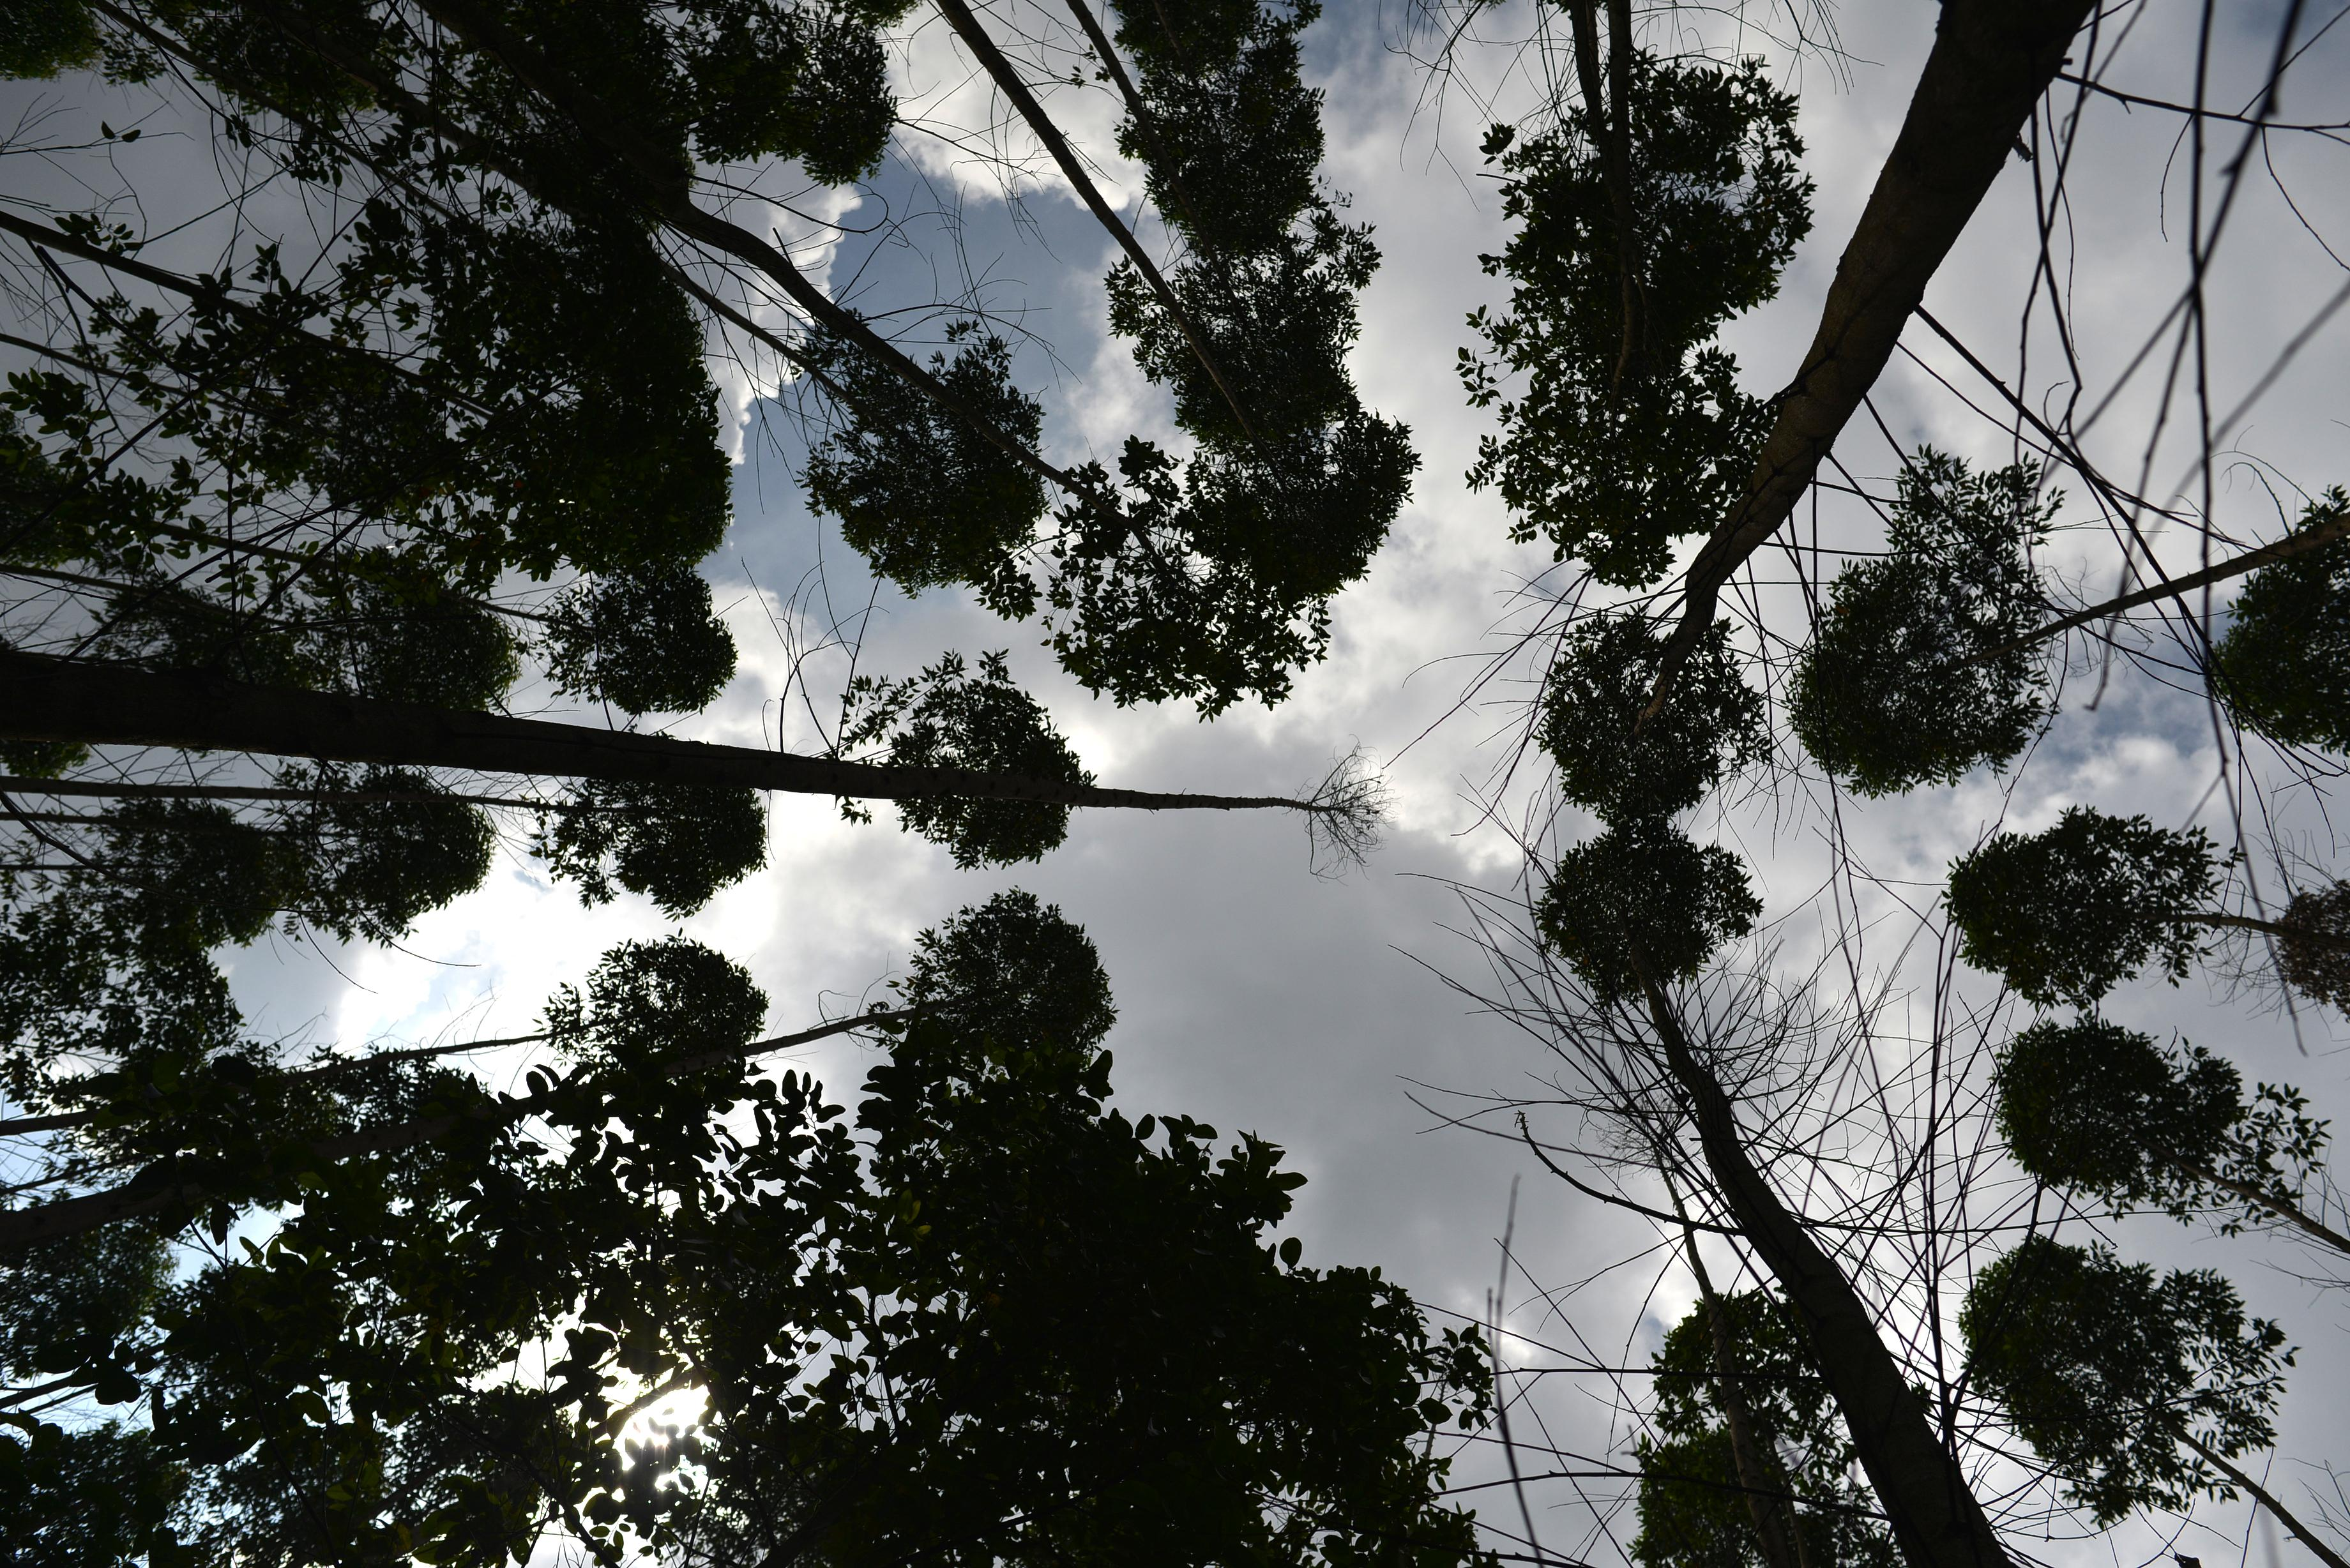Wither Tree Parts: (1297, 712, 1393, 891)
